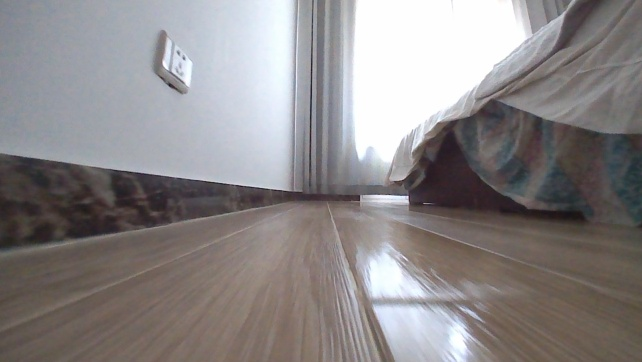bed1: (387, 0, 641, 226)
